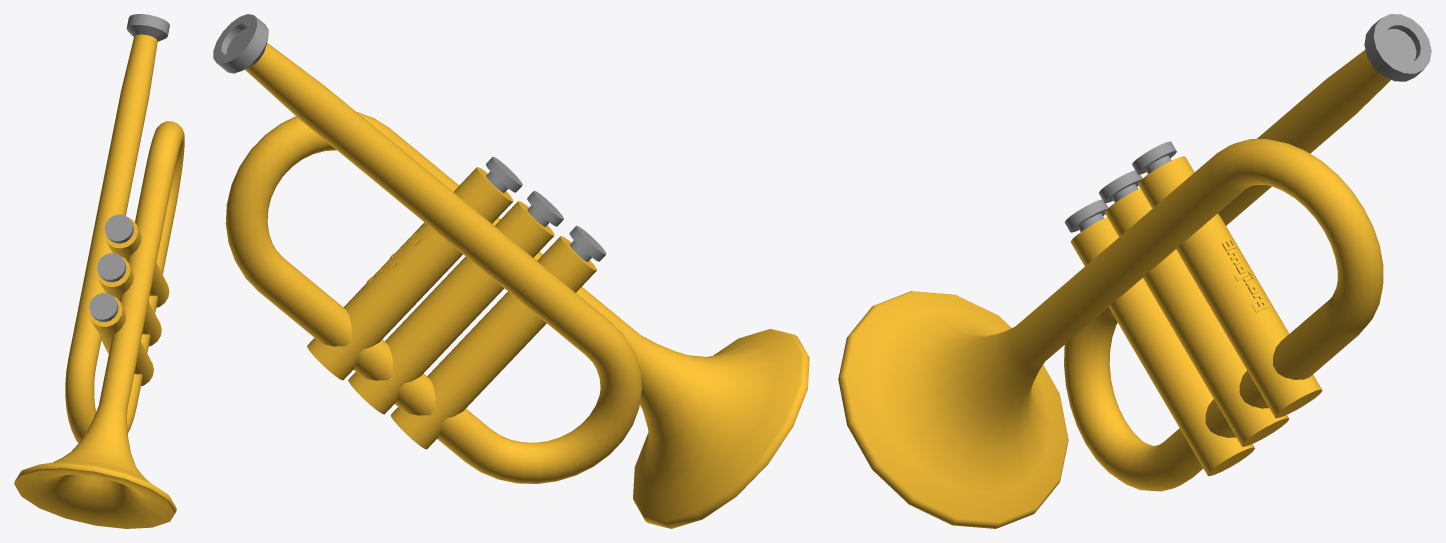
Rendered from trumpet.gltf.
The picture shows the model from 3 angles, left to right: view 1: azimuth 30°, elevation 25°; view 2: azimuth 150°, elevation 25°; view 3: azimuth 270°, elevation 25°; orthographic projection. The views are drawn at different scales.
Visible parts, largest first — view 1: Torus.008; view 2: Torus.008; view 3: Torus.008.
Part boxes in pixels (left/top/right/bottom): Torus.008: left=14, top=14, right=184, bottom=528; Torus.008: left=213, top=14, right=809, bottom=528; Torus.008: left=838, top=14, right=1431, bottom=528.
Size of the model in its own units: 1.72 by 2.33 by 2.01.
Materials: 1 (1 with a texture image).
